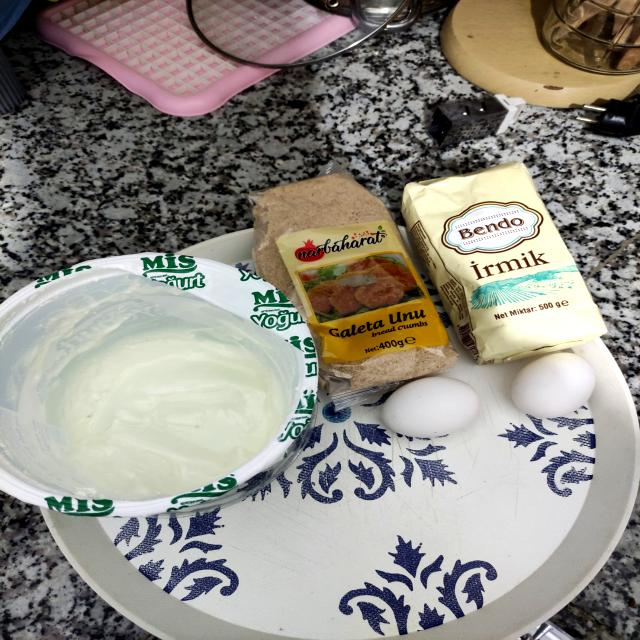egg: (501, 346, 608, 421), (379, 370, 487, 444)
yogurt: (0, 268, 303, 506)
